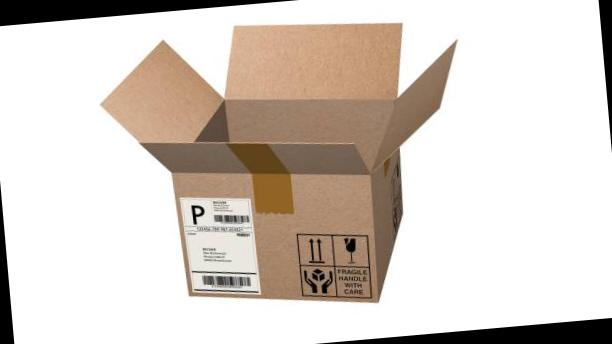cardboard: (92, 0, 466, 342)
